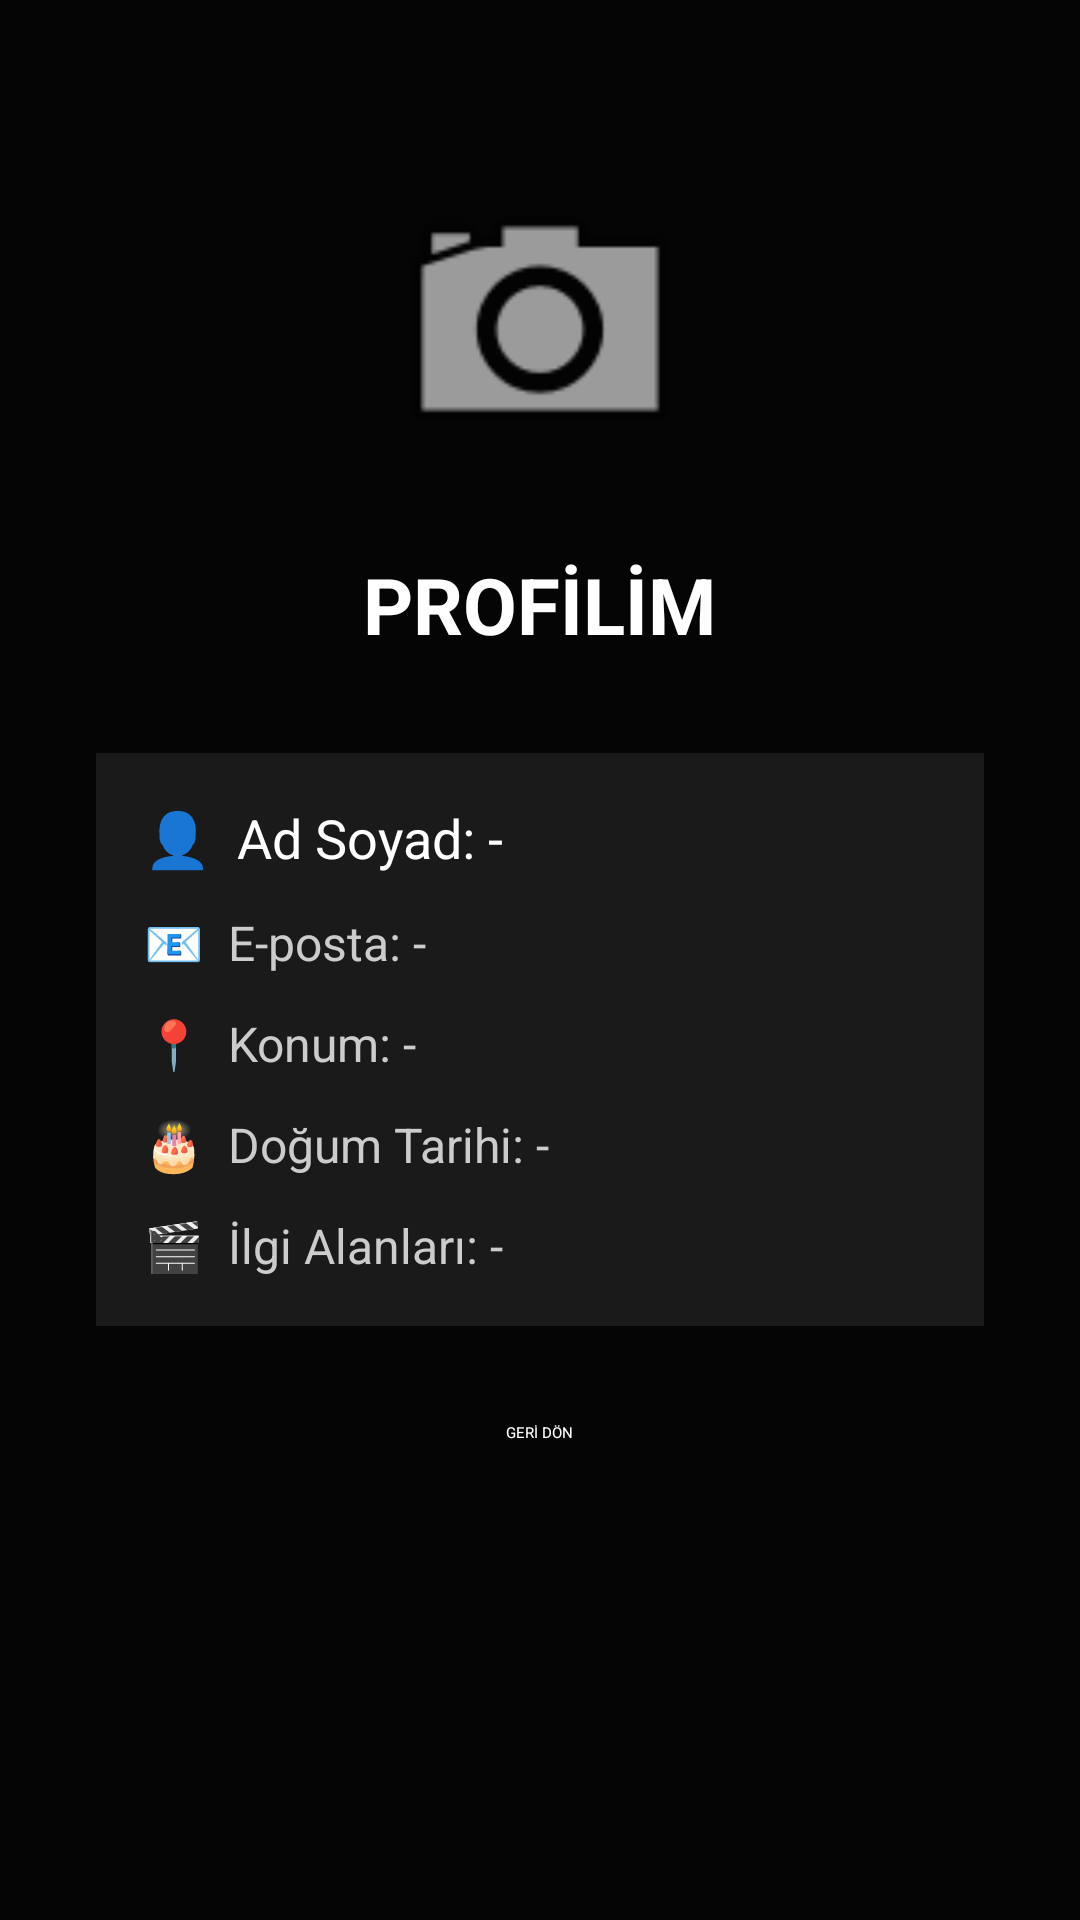

Locate icon controls on the screen. Image size 1080px x 1920px, boxes as (x1, y1, x2, y2).
camera: (420, 225, 660, 412)
